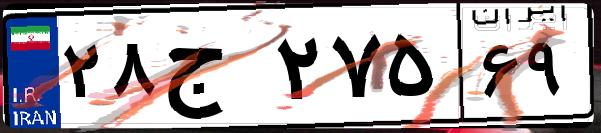2: (270, 28, 330, 110), (57, 26, 110, 100)
5: (385, 28, 445, 110)
6: (475, 38, 525, 113)
7: (330, 28, 385, 110)
8: (110, 28, 158, 98)
9: (525, 38, 570, 115)
ج: (158, 20, 270, 120)
